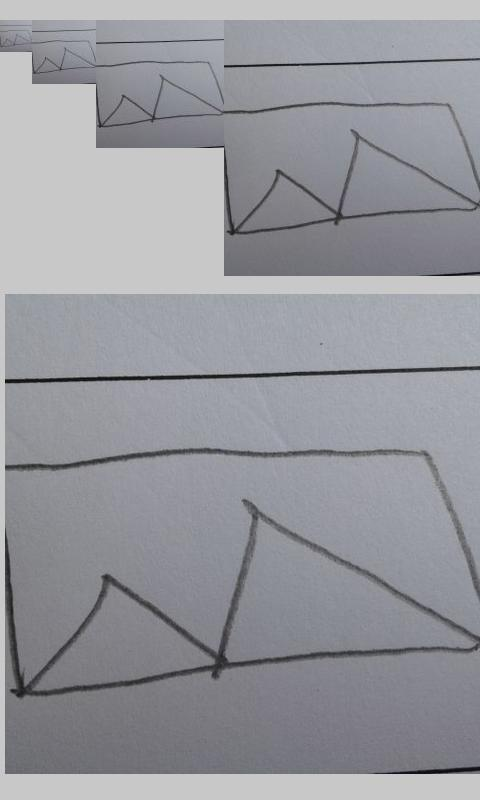image_view: (6, 447, 479, 696), (223, 97, 480, 235), (95, 60, 223, 127), (32, 40, 95, 74), (1, 29, 31, 48)
